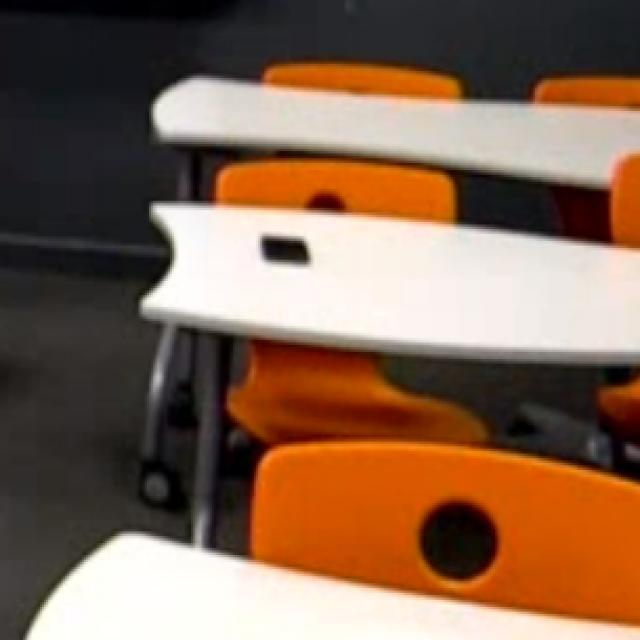phone: (246, 221, 323, 287)
